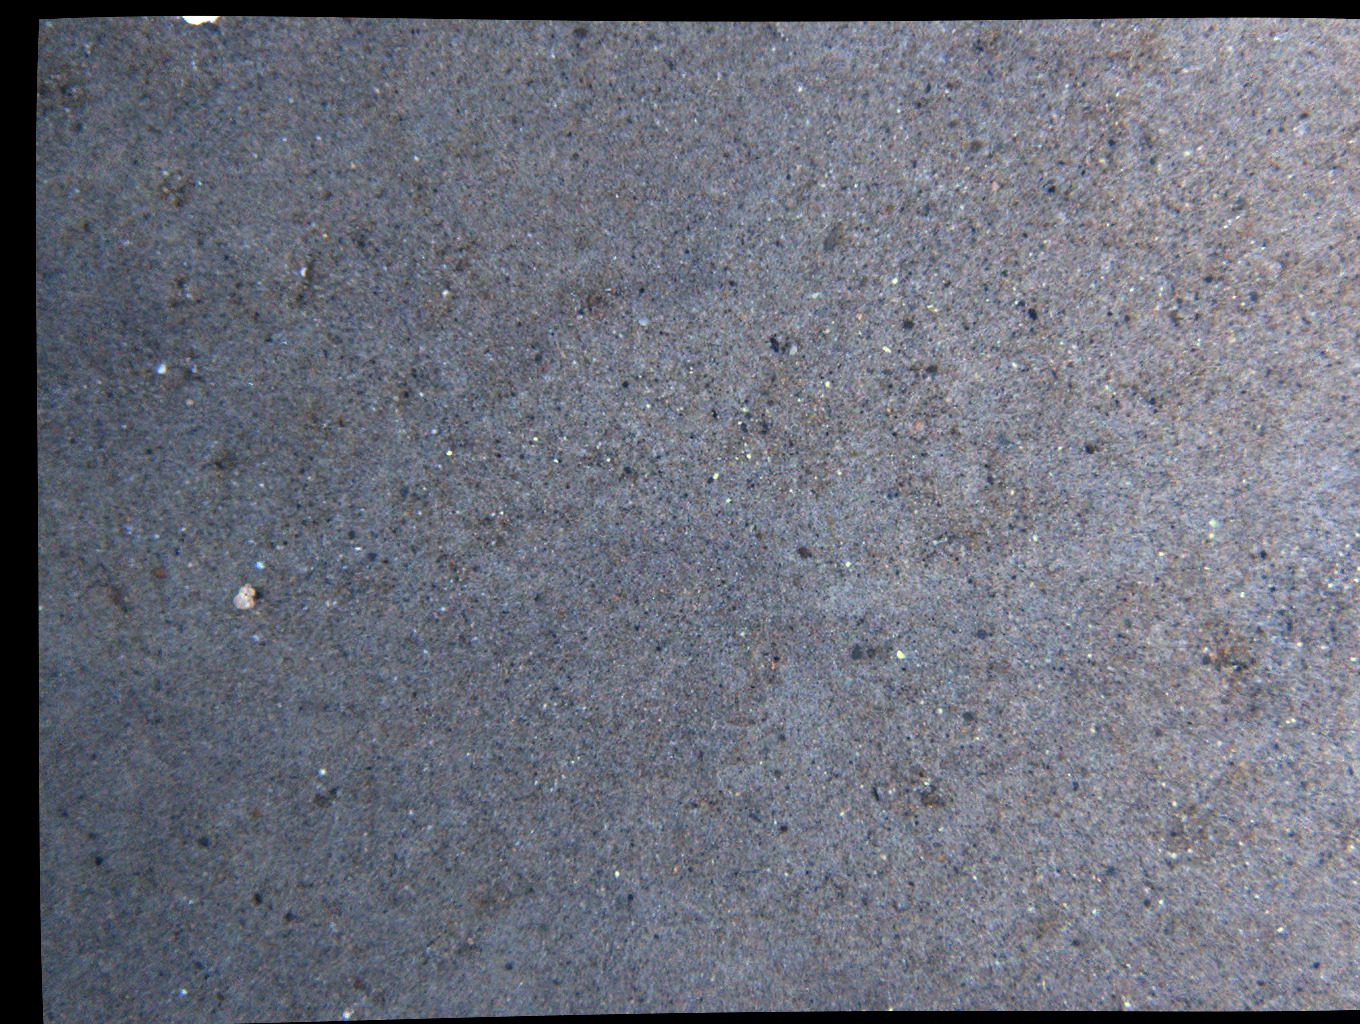Substrate A: (154, 59, 164, 77)
